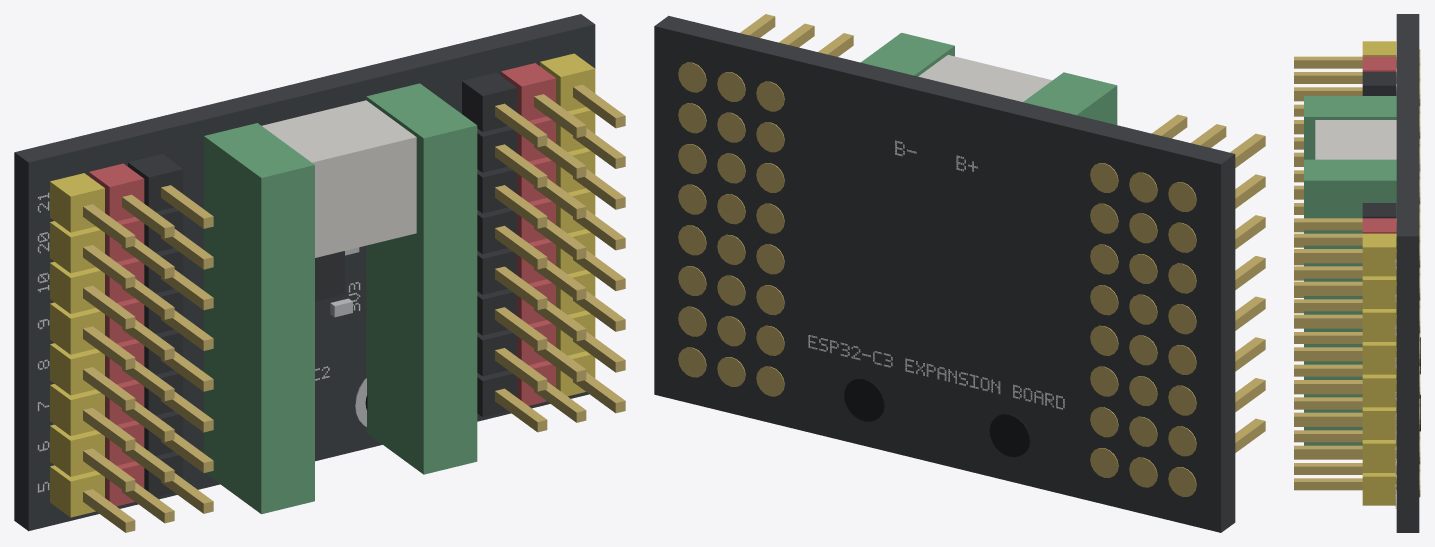
File: aitrip-esp32-c3-supermini-expansion-board-b0fbgfwfb1.glb
3 views of the same model, side by side, from view 1: azimuth 30°, elevation 25°; view 2: azimuth 150°, elevation 25°; view 3: azimuth 270°, elevation 25° (orthographic). The views are drawn at different scales.
Visible parts, largest first — view 1: body:pcb, connector:controller-left-1x8:housing, connector:controller-right-1x8:housing, connector:battery-jst2:body, connector:left-breakout:GPIO21:insulator:1, connector:right-breakout:GPIO0:insulator:1, connector:left-breakout:GPIO8:insulator:1, connector:left-breakout:GPIO20:insulator:1, connector:left-breakout:GPIO9:insulator:1, connector:left-breakout:GPIO10:insulator:1, connector:left-breakout:GPIO5:insulator:1, connector:left-breakout:GPIO6:insulator:1 (+89 smaller); view 2: body:pcb, connector:battery-jst2:body, connector:controller-left-1x8:housing, connector:controller-right-1x8:housing, silkscreen:bottom:c3:bottom:title:ESP32-C3 EXPANSION BOARD, mount:m2:bore, mount:m1:bore; view 3: body:pcb, connector:controller-right-1x8:housing, connector:battery-jst2:body, connector:controller-left-1x8:housing, connector:right-breakout:GPIO0:insulator:3, connector:right-breakout:GPIO4:insulator:3, connector:right-breakout:GPIO1:insulator:3, connector:right-breakout:GPIO3:insulator:3, connector:right-breakout:GPIO2:insulator:3, connector:right-breakout:5V:insulator:3, connector:right-breakout:3V3:insulator:3, connector:right-breakout:GND:insulator:3 (+30 smaller).
Boxes of the visible parts, bbox=[...] form: body:pcb: bbox=[14, 14, 595, 531]; connector:controller-left-1x8:housing: bbox=[204, 123, 314, 514]; connector:controller-right-1x8:housing: bbox=[366, 83, 477, 474]; connector:battery-jst2:body: bbox=[262, 100, 416, 257]; connector:left-breakout:GPIO21:insulator:1: bbox=[50, 173, 104, 232]; connector:right-breakout:GPIO0:insulator:1: bbox=[462, 72, 516, 131]; connector:left-breakout:GPIO8:insulator:1: bbox=[50, 343, 104, 395]; connector:left-breakout:GPIO20:insulator:1: bbox=[50, 221, 104, 273]; connector:left-breakout:GPIO9:insulator:1: bbox=[50, 302, 104, 354]; connector:left-breakout:GPIO10:insulator:1: bbox=[50, 261, 104, 313]; connector:left-breakout:GPIO5:insulator:1: bbox=[50, 465, 104, 517]; connector:left-breakout:GPIO6:insulator:1: bbox=[50, 424, 104, 476]; body:pcb: bbox=[654, 15, 1235, 532]; connector:battery-jst2:body: bbox=[918, 55, 1052, 101]; connector:controller-left-1x8:housing: bbox=[1023, 72, 1117, 124]; connector:controller-right-1x8:housing: bbox=[861, 32, 954, 76]; silkscreen:bottom:c3:bottom:title:ESP32-C3 EXPANSION BOARD: bbox=[808, 335, 1064, 409]; mount:m2:bore: bbox=[844, 378, 884, 421]; mount:m1:bore: bbox=[989, 413, 1030, 457]; body:pcb: bbox=[1396, 14, 1419, 532]; connector:controller-right-1x8:housing: bbox=[1304, 159, 1396, 445]; connector:battery-jst2:body: bbox=[1315, 120, 1396, 159]; connector:controller-left-1x8:housing: bbox=[1304, 96, 1396, 159]; connector:right-breakout:GPIO0:insulator:3: bbox=[1362, 233, 1396, 276]; connector:right-breakout:GPIO4:insulator:3: bbox=[1362, 374, 1396, 407]; connector:right-breakout:GPIO1:insulator:3: bbox=[1362, 276, 1396, 308]; connector:right-breakout:GPIO3:insulator:3: bbox=[1362, 342, 1396, 374]; connector:right-breakout:GPIO2:insulator:3: bbox=[1362, 309, 1396, 341]; connector:right-breakout:5V:insulator:3: bbox=[1362, 473, 1396, 505]; connector:right-breakout:3V3:insulator:3: bbox=[1362, 407, 1396, 439]; connector:right-breakout:GND:insulator:3: bbox=[1362, 440, 1396, 472].
Size of the model in its own units: 0.037 by 0.023 by 0.00892.
